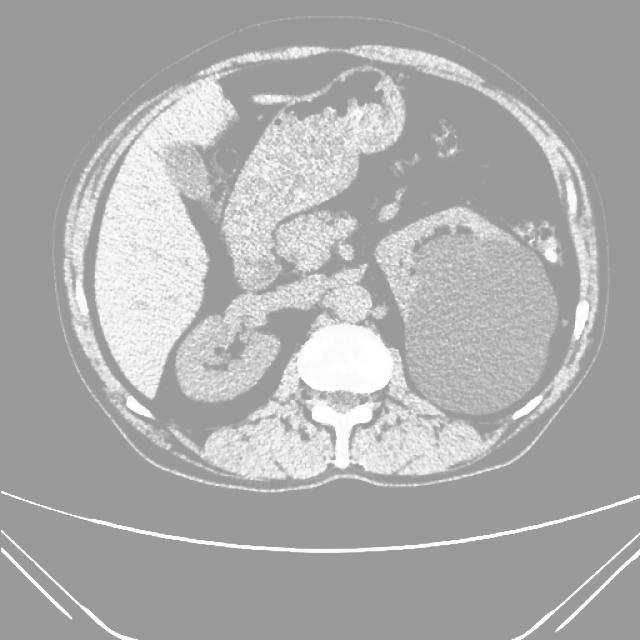cysts: (59, 38, 601, 490)
